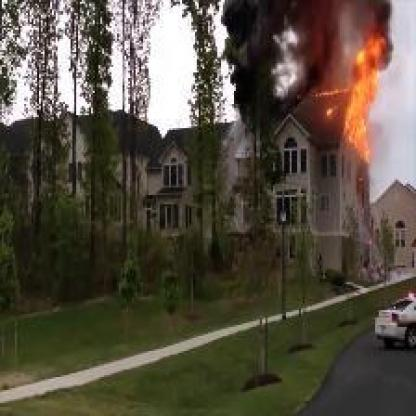fire: (342, 30, 393, 160), (307, 84, 344, 116)
smoke: (212, 0, 290, 121), (294, 0, 344, 80)
